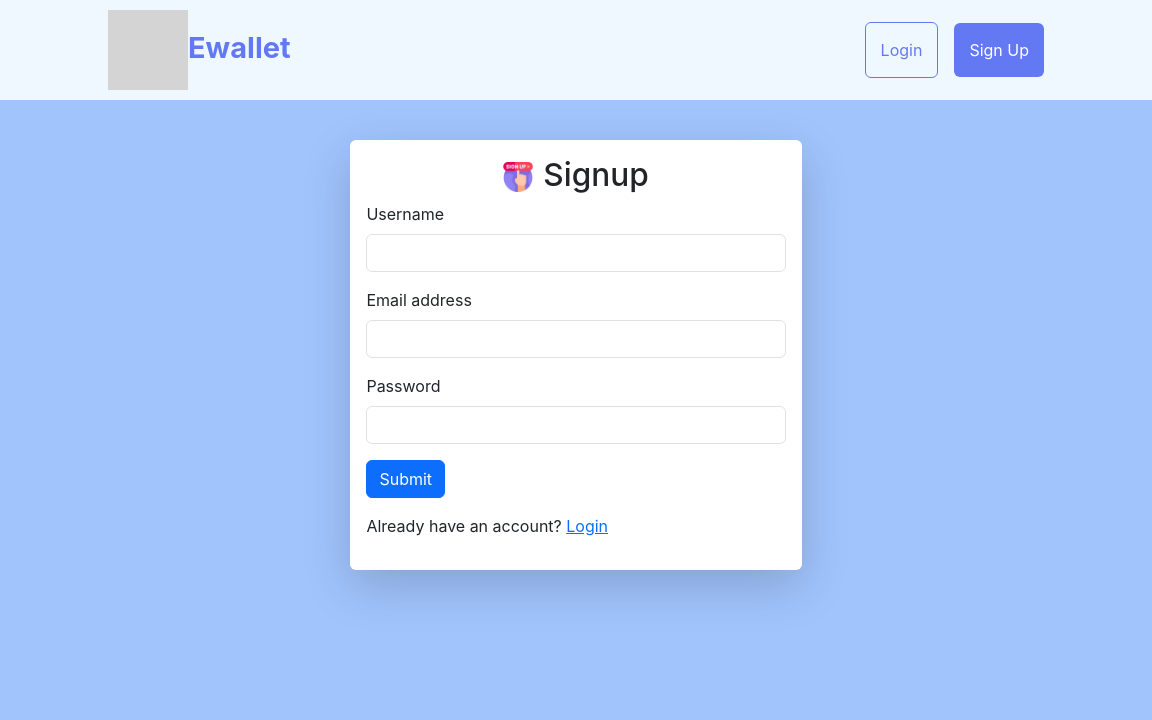
Scenario: Signup Component › Submit the signup form without data
The image size is (1152, 720).
Click the button "Submit" at (406,479), box 366,460 -> 445,498
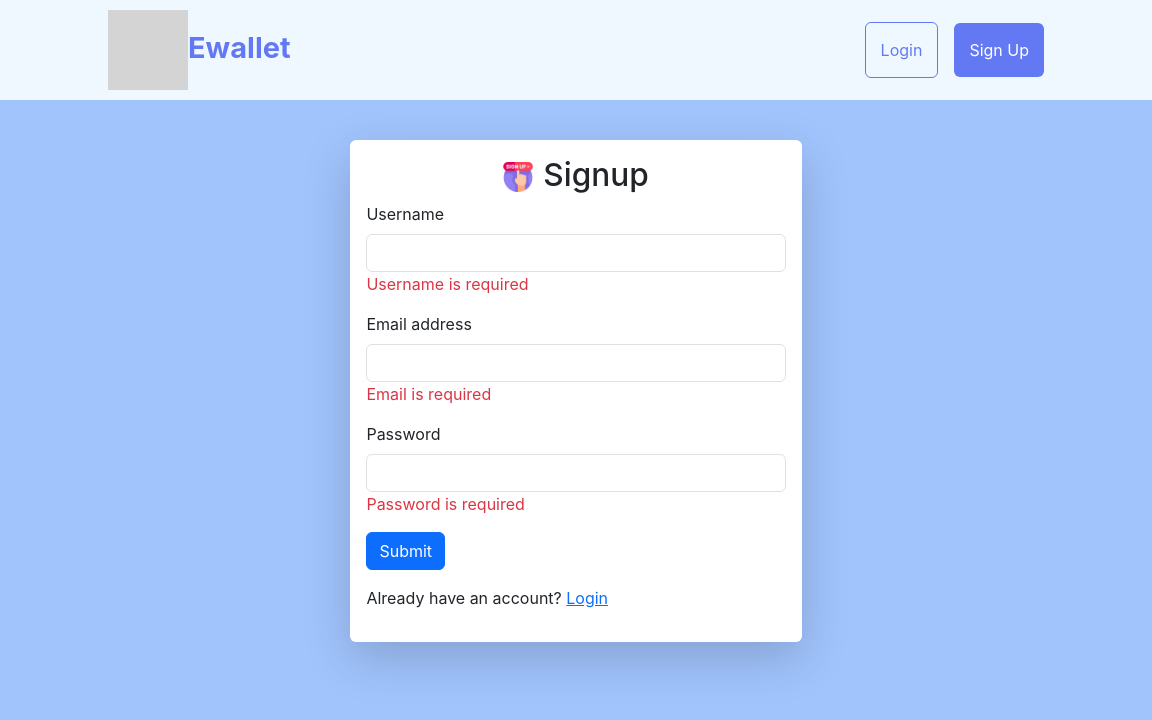
Expected: the text "Email is required" is shown, 366,384 -> 491,404
